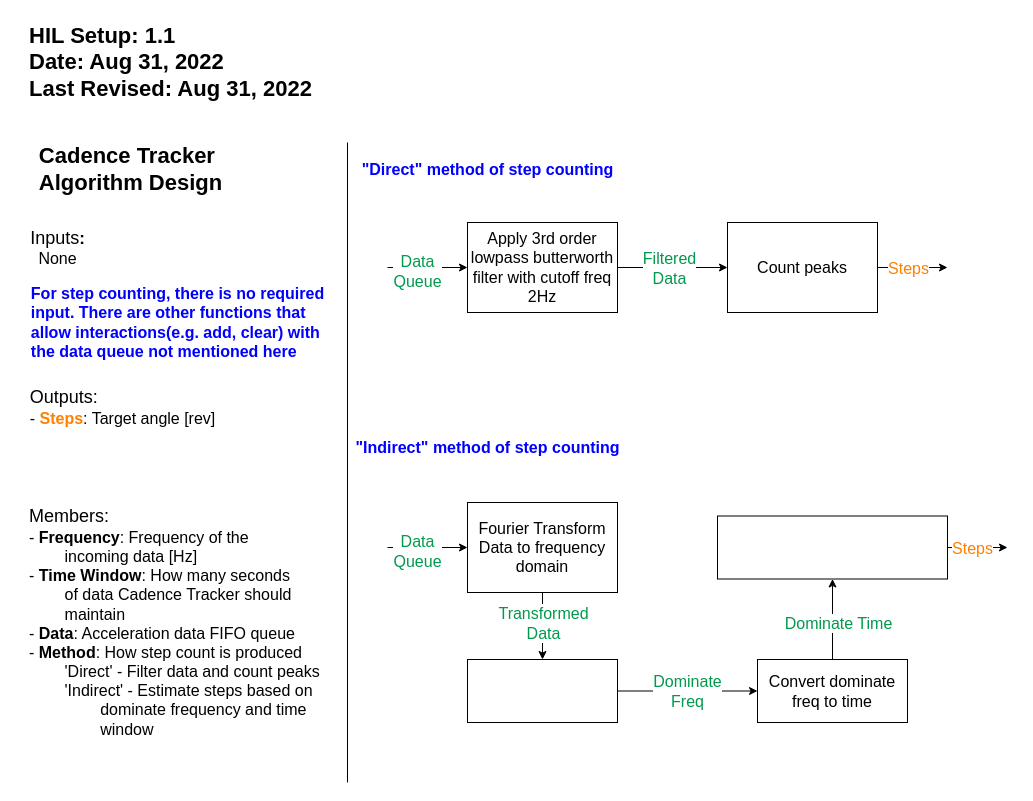
This 1033x801 diagram has some shape labels left out. Here are the shapes that lost their labels. From the top down, the centre of each, then its label:
(x=832, y=547): Estimate steps (time window / dominate time)
(x=542, y=690): Determine dominate frequency
